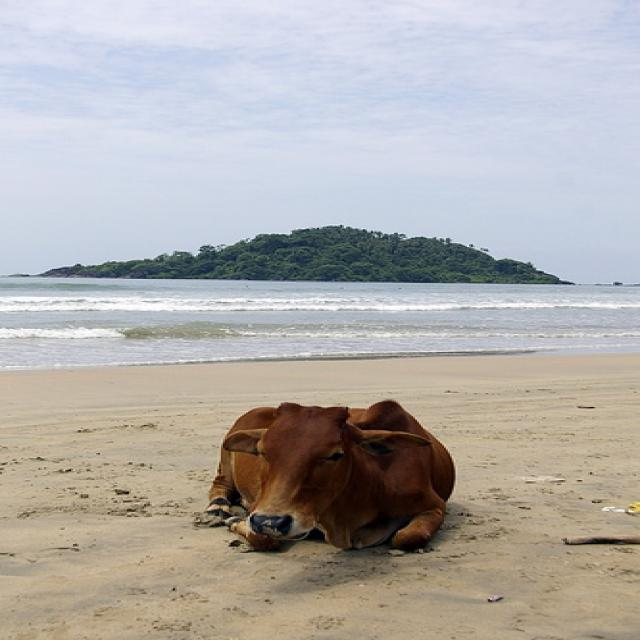cow: (204, 398, 452, 549)
